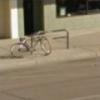bicycles: (10, 30, 54, 59)
